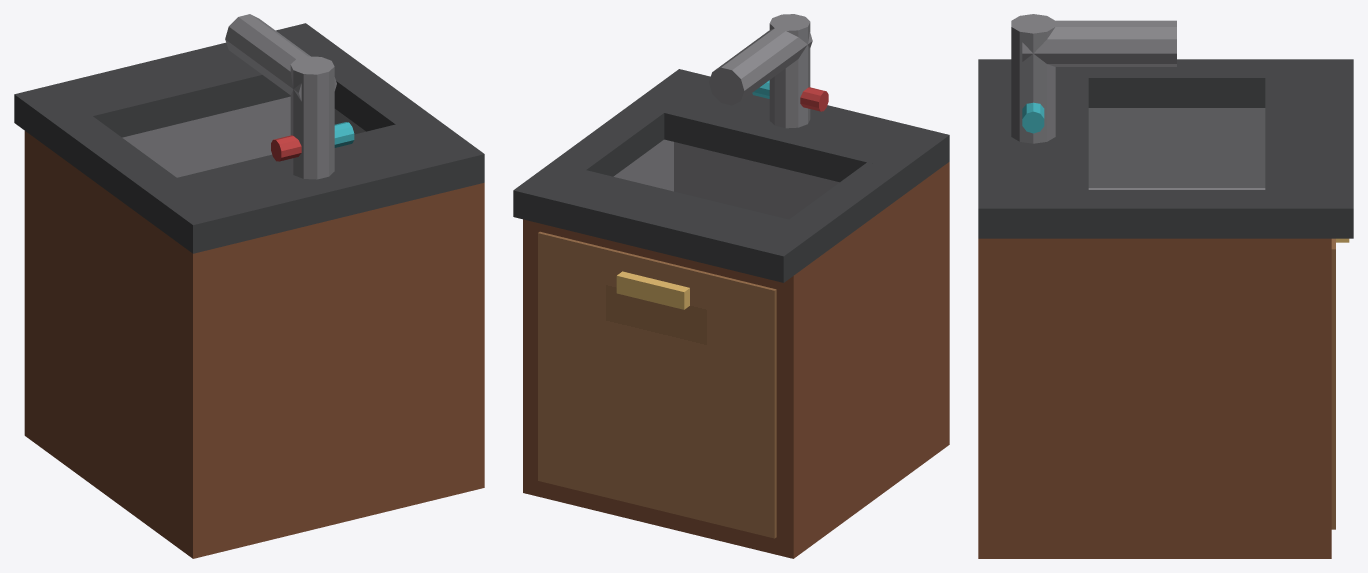
Rendered from sink.fbx.
3 renders of one model, left to right at view 1: azimuth 30°, elevation 25°; view 2: azimuth 150°, elevation 25°; view 3: azimuth 270°, elevation 25°, orthographic. The views are drawn at different scales.
Visible parts, largest first — view 1: cube_8, cube_9, cube_4, cube, cube_6, cube_7, cube_1, cube_10, cube_5, cylinder, cylinder_1, cylinder_2; view 2: cube_2, cube_9, cube_8, cube_4, cube, cube_6, cube_1, cube_10, cube_5, cube_7, cylinder_1, cylinder (+2 smaller); view 3: cube_7, cube_4, cube_10, cube_5, cube_6, cube_1, cylinder_1, cylinder, cube_2, cylinder_2.
Part boxes in pixels (x1,y1,x2,y2): cube_8: (151,191,448,558); cube_9: (45,222,150,527); cube_4: (140,115,484,253); cube: (24,96,290,450); cube_6: (51,42,290,137); cube_7: (334,109,484,496); cube_1: (14,85,176,214); cube_10: (45,146,150,298); cube_5: (276,23,431,131); cylinder: (290,56,334,179); cylinder_1: (225,14,336,101); cylinder_2: (271,122,354,161); cube_2: (538,231,776,538); cube_9: (813,261,910,544); cube_8: (674,142,949,472); cube_4: (631,69,949,196); cube: (556,227,812,558); cube_6: (547,170,788,274); cube_1: (750,162,900,282); cube_10: (813,190,910,331); cube_5: (513,104,664,224); cube_7: (523,139,673,500); cylinder_1: (709,17,812,105); cylinder: (769,14,810,128); cube_7: (978,238,1331,558); cube_4: (978,59,1088,238); cube_10: (1088,108,1265,187); cube_5: (1088,190,1353,238); cube_6: (1265,78,1353,189); cube_1: (1088,59,1353,107); cylinder_1: (1022,20,1176,66); cylinder: (1011,14,1055,143); cube_2: (1331,238,1335,529); cylinder_2: (1022,102,1044,133).
Bounding box in the file's own units: 50 × 71.88 × 53.12.
Materials: 1 (1 with a texture image).
